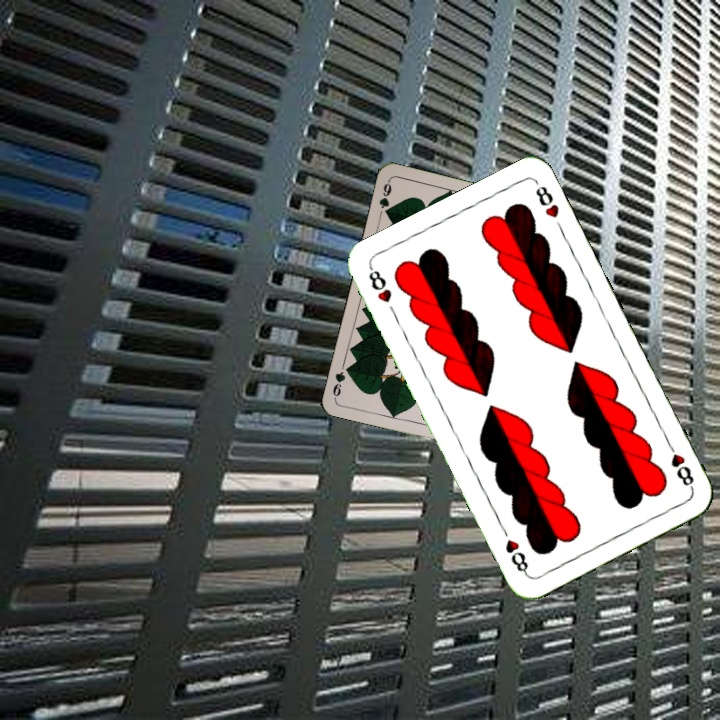G9: (375, 177, 394, 218)
H8: (662, 437, 697, 492), (364, 263, 394, 306)
